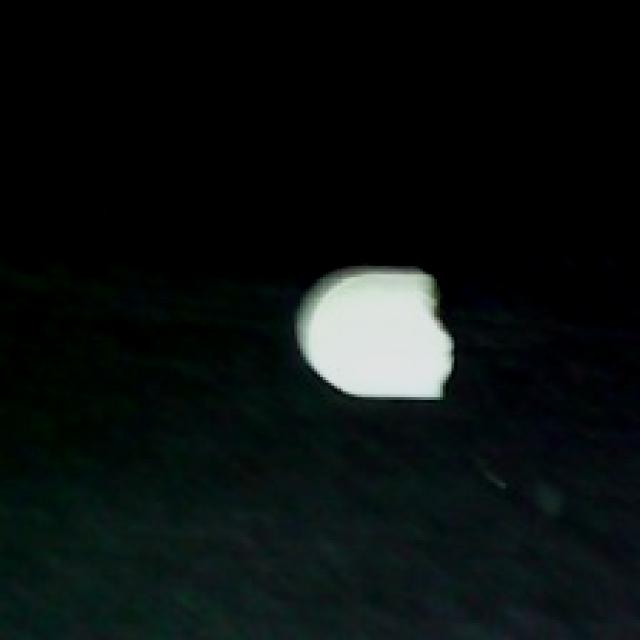defected: (291, 260, 457, 409)
